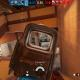Character: (40, 38, 41, 44)
Friend_label: (18, 12, 27, 16)
Head: (40, 38, 41, 40)
